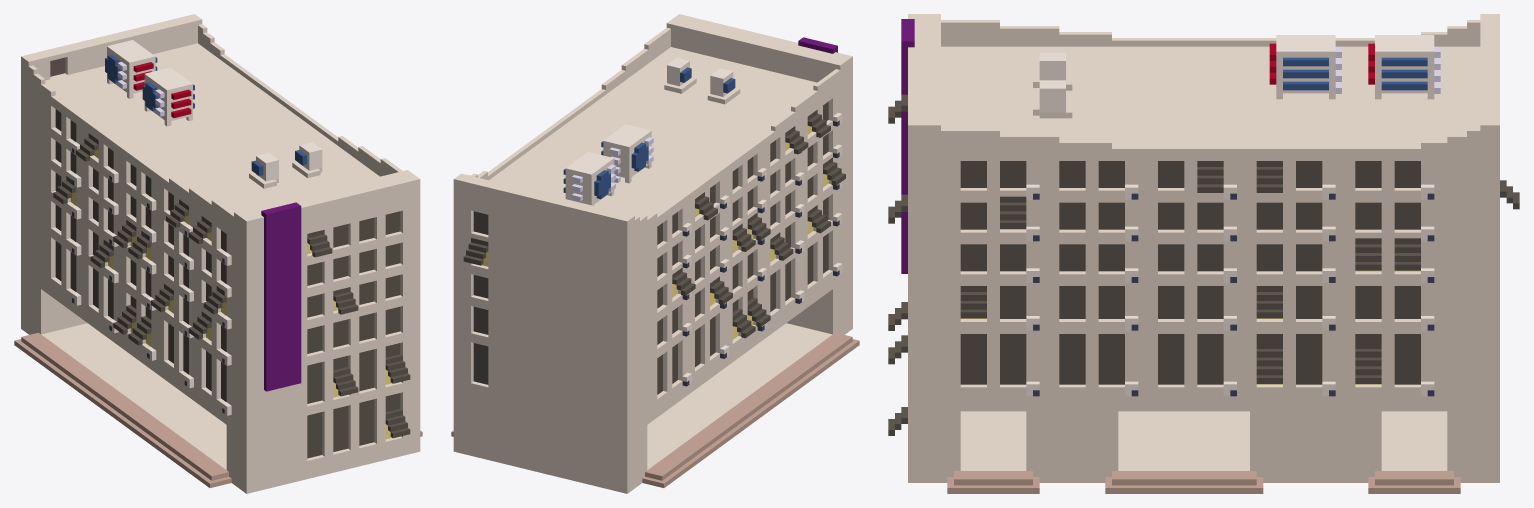
The model's file is start-up-zone-zhi-ren.obj.
The picture shows the model from 3 angles, left to right: view 1: azimuth 30°, elevation 25°; view 2: azimuth 150°, elevation 25°; view 3: azimuth 270°, elevation 25°; orthographic projection. The views are drawn at different scales.
Bounding box in the file's own units: 4.9 × 6.3 × 9.6.
1 material, 1 textured.
